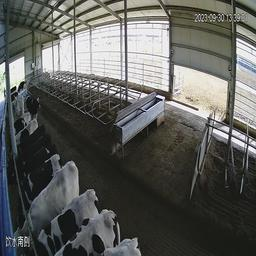cow: (29, 188, 115, 244), (14, 159, 83, 228), (3, 111, 53, 167), (1, 75, 34, 123)
